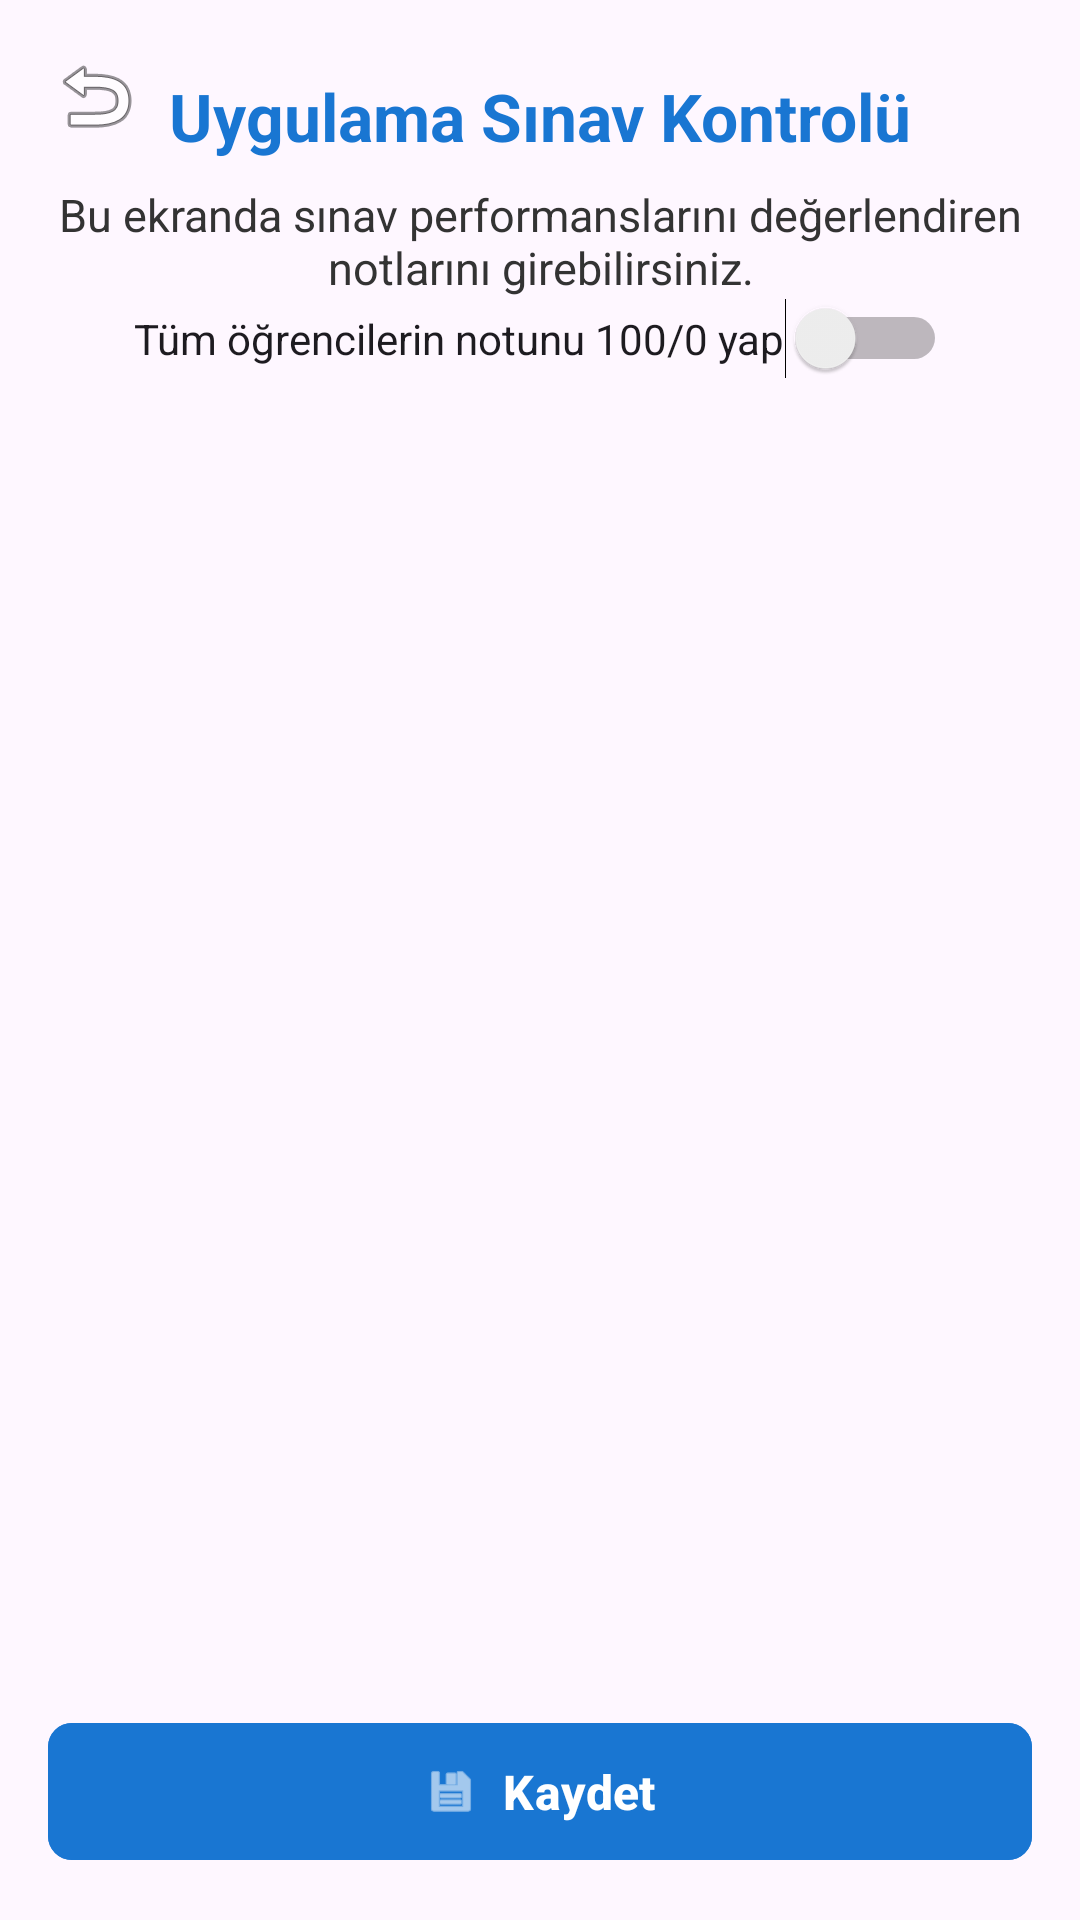

Where icons sit on this 1080px×1920px app screen, as (x1, y1, x2, y2):
Geri: (63, 65, 132, 128)
